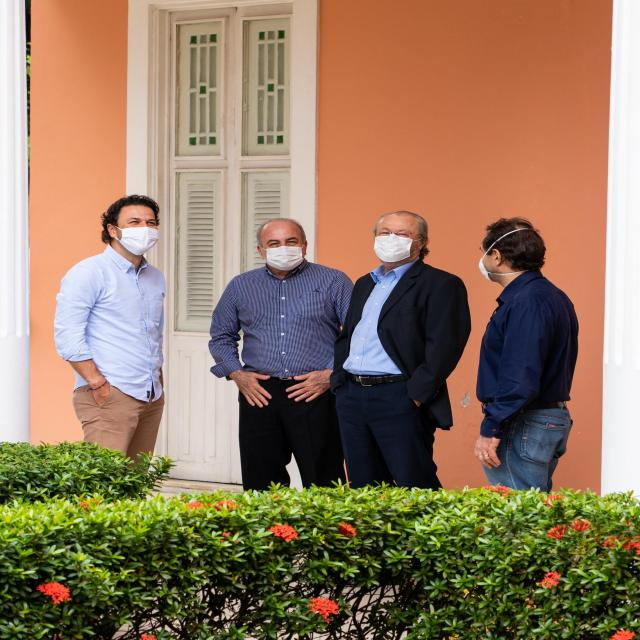Mask: (118, 228, 161, 255), (376, 236, 410, 261), (268, 248, 303, 270)
